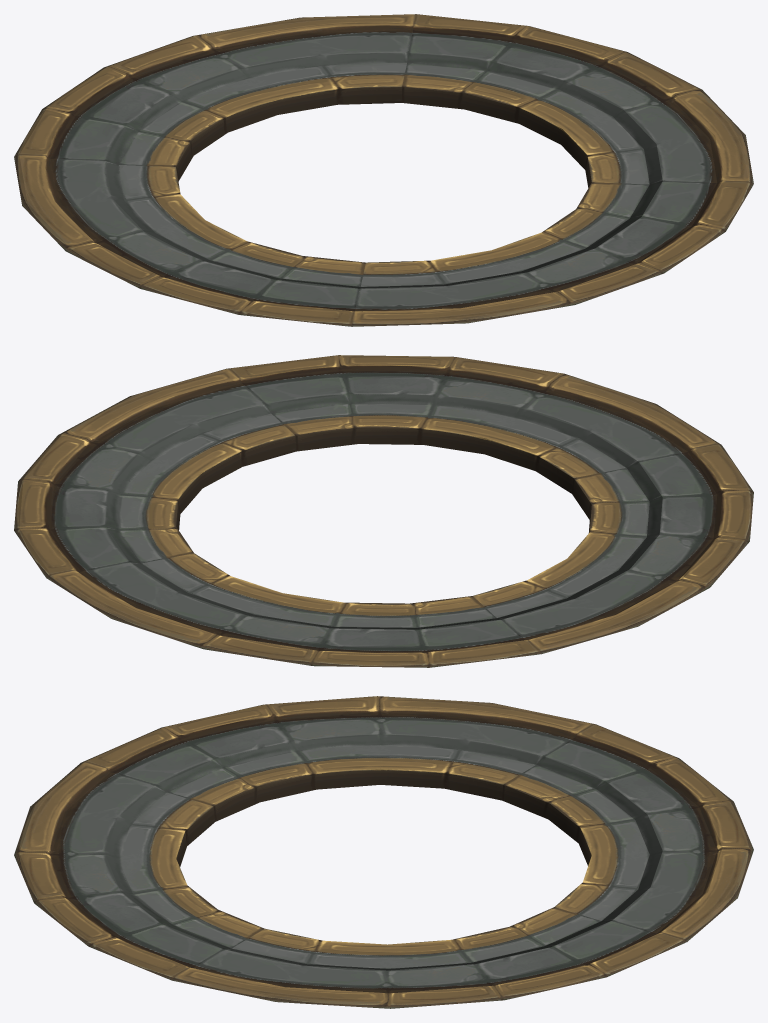
Rendered from cs_chengshi_chuansongzhen_001.FBX.
3 views of the same model, one above another, from view 1: azimuth 30°, elevation 25°; view 2: azimuth 150°, elevation 25°; view 3: azimuth 270°, elevation 25° (orthographic).
Parts seen in each view (by area): view 1: cs_chengshi_chuansongzhen_001; view 2: cs_chengshi_chuansongzhen_001; view 3: cs_chengshi_chuansongzhen_001.
Boxes of the visible parts, box(x1,y1,x2,y2) form: cs_chengshi_chuansongzhen_001: box(14, 14, 753, 326); cs_chengshi_chuansongzhen_001: box(14, 355, 753, 667); cs_chengshi_chuansongzhen_001: box(14, 696, 753, 1008).
Size of the model in its own units: 131 by 131 by 4.21.
